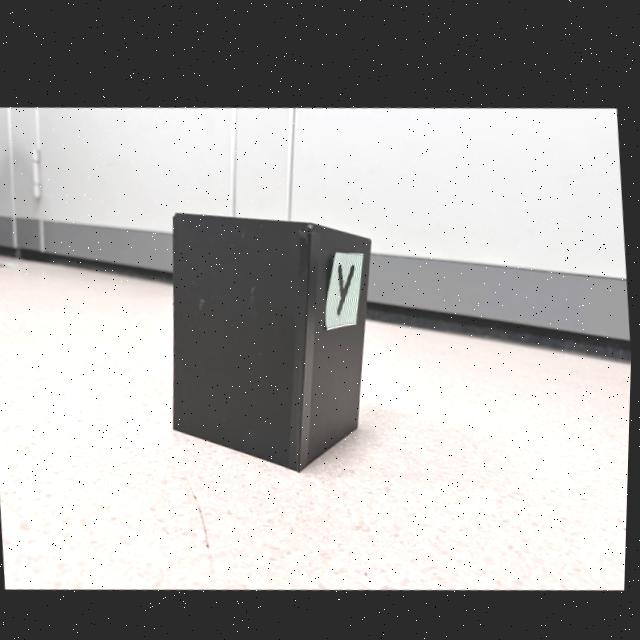Y: (339, 258, 355, 309)
